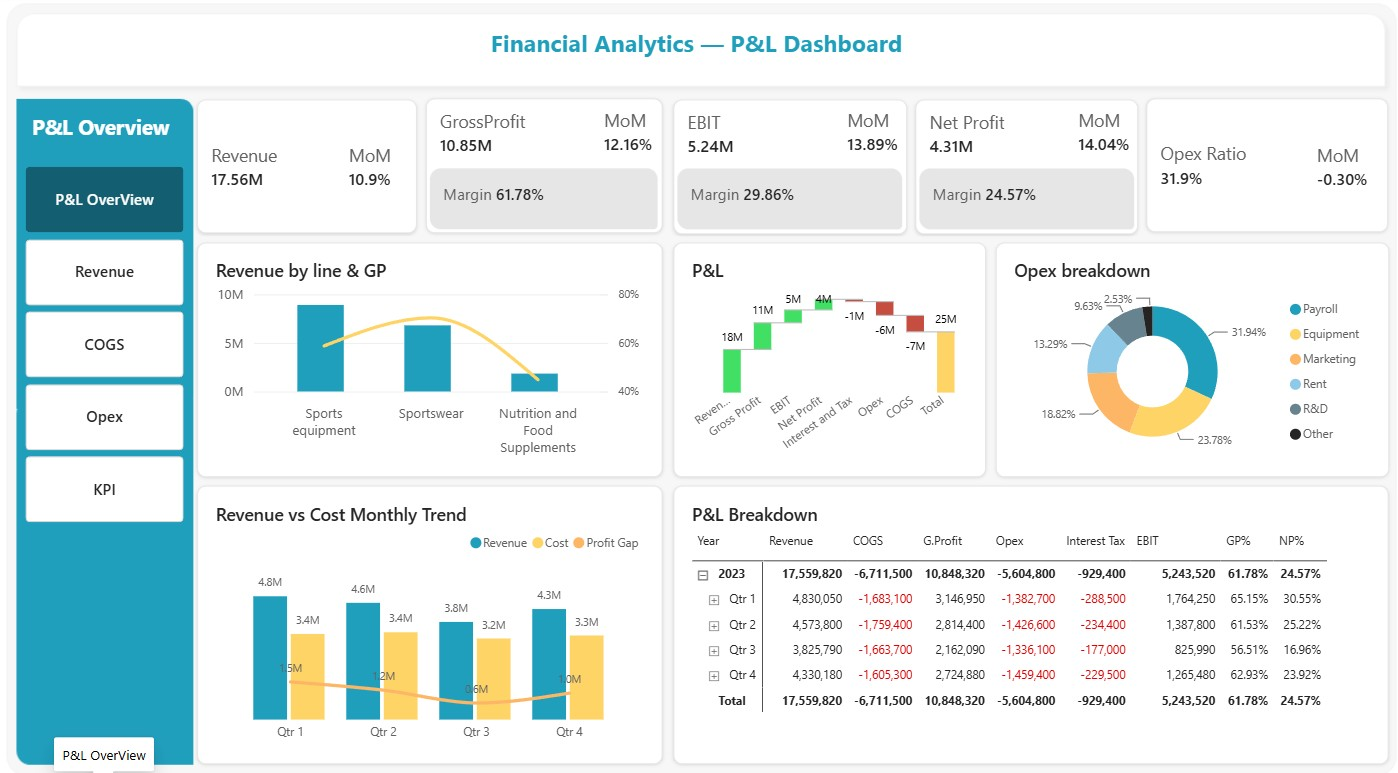

The page's visual inventory and layout, read from the dashboard file:
{"tool":"powerbi","page":{"name":"P&L OverView","canvas":[1280,720],"ordinal":0},"visuals":[{"type":"lineClusteredColumnComboChart","title":"Revenue vs Cost Monthly Trend","fields":{"Category":["Calendar.Date.Variation.Date Hierarchy.Year","Calendar.Date.Variation.Date Hierarchy.Quarter","Calendar.Date.Variation.Date Hierarchy.Month","Calendar.Date.Variation.Date Hierarchy.Day"],"Y":["_M.M_Revenue","_M.M_Total_Cost"],"Y2":["_M.M_Profit_Gap"]},"box":[181.4,446.5,423.3,254],"z":0},{"type":"lineStackedColumnComboChart","title":"Revenue by line & GP","fields":{"Category":["Business Line.Business Line"],"Y":["_M.M_Revenue"],"Y2":["_M.M_GrossProfitMargin"]},"box":[181.1,225.6,423.3,213.3],"z":1000},{"type":"cardVisual","title":"GrossProfit","fields":{"Data":["_M.M_GrossProfit"]},"box":[389,94,215,123],"z":2000},{"type":"cardVisual","title":"GrossProfit","fields":{"Data":["_M.M_Opex_Ratio"]},"box":[1045.5,94.5,220,121.8],"z":3000},{"type":"cardVisual","title":"GrossProfit","fields":{"Data":["_M.M_EBIT"]},"box":[614.4,94.6,212.3,122.3],"z":4000},{"type":"cardVisual","title":"GrossProfit","fields":{"Data":["_M.M_Net_Profit"]},"box":[834.5,94.6,203.1,122.3],"z":5000},{"type":"waterfallChart","title":"P&L","fields":{"Category":["Headlines.Headline"],"Y":["_M.M_P&L_Value"]},"box":[614.4,225.6,284.4,213.3],"z":6000},{"type":"donutChart","title":"Opex breakdown","fields":{"Category":["Subgroup.Subgroup"],"Y":["_M.M_Opex_Breakdown_Pct"]},"box":[907.8,225.6,357.8,213.3],"z":7000},{"type":"pivotTable","title":"P&L Breakdown","fields":{"Rows":["Calendar.Date.Variation.Date Hierarchy.Year","Calendar.Date.Variation.Date Hierarchy.Quarter","Calendar.Date.Variation.Date Hierarchy.Month","Calendar.Date.Variation.Date Hierarchy.Day"],"Values":["_M.M_Revenue","_M.M_COGS","_M.M_GrossProfit","_M.M_Opex","_M.M_Interest_Tax","_M.M_EBIT","_M.M_GrossProfitMargin","_M.M_Net_Profit_Margin"]},"box":[614.4,446.7,651.1,253.3],"z":8000},{"type":"textbox","box":[448.5,29.2,383,40.3],"z":9000},{"type":"textbox","box":[31.2,106.8,137.1,34.3],"z":10000},{"type":"pageNavigator","box":[24.7,156,144,328.7],"z":11000},{"type":"cardVisual","title":"GrossProfit","fields":{"Data":["_M.M_Revenue"]},"box":[181,95,200,122],"z":12000},{"type":"cardVisual","title":"GrossProfit","fields":{"Data":["_M MoM.M_GrossProfit_MoM"]},"box":[540,85,74,78],"z":13000},{"type":"cardVisual","title":"GrossProfit","fields":{"Data":["_M MoM.M_EBIT_MoM"]},"box":[761,85,74,78],"z":14000},{"type":"cardVisual","title":"GrossProfit","fields":{"Data":["_M MoM.M_NetProfit_MoM"]},"box":[971,85,74,78],"z":15000},{"type":"cardVisual","title":"GrossProfit","fields":{"Data":["_M MoM.M_Opex_Ratio_MoM"]},"box":[1188,116,77,78],"z":16000},{"type":"cardVisual","title":"GrossProfit","fields":{"Data":["_M MoM.M_Revenue_MoM"]},"box":[307,116,74,78],"z":17000},{"type":"textbox","box":[22,675,150,25],"z":18000}]}

Visuals, with their boxes in screenshot pixels (x1, y1, x2, y2), scaled from the page's 1280x720 canvas onto the 1398x773 screenshot:
"Revenue vs Cost Monthly Trend" lineClusteredColumnComboChart: rect(198, 479, 660, 752)
"Revenue by line & GP" lineStackedColumnComboChart: rect(198, 242, 660, 471)
"GrossProfit" cardVisual: rect(425, 101, 660, 233)
"GrossProfit" cardVisual: rect(1142, 101, 1382, 232)
"GrossProfit" cardVisual: rect(671, 102, 903, 233)
"GrossProfit" cardVisual: rect(911, 102, 1133, 233)
"P&L" waterfallChart: rect(671, 242, 982, 471)
"Opex breakdown" donutChart: rect(991, 242, 1382, 471)
"P&L Breakdown" pivotTable: rect(671, 480, 1382, 752)
textbox: rect(490, 31, 908, 75)
textbox: rect(34, 115, 184, 151)
pageNavigator: rect(27, 167, 184, 520)
"GrossProfit" cardVisual: rect(198, 102, 416, 233)
"GrossProfit" cardVisual: rect(590, 91, 671, 175)
"GrossProfit" cardVisual: rect(831, 91, 912, 175)
"GrossProfit" cardVisual: rect(1061, 91, 1141, 175)
"GrossProfit" cardVisual: rect(1298, 125, 1382, 208)
"GrossProfit" cardVisual: rect(335, 125, 416, 208)
textbox: rect(24, 725, 188, 752)
